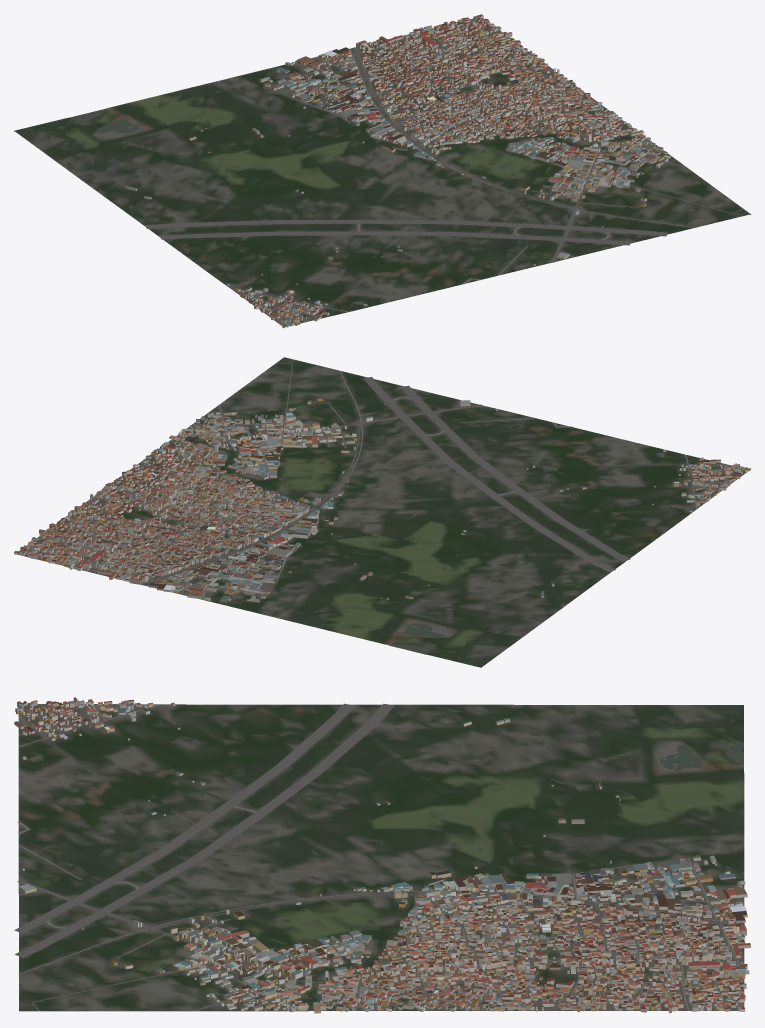
3 views of the same model, one above another, from view 1: azimuth 30°, elevation 25°; view 2: azimuth 150°, elevation 25°; view 3: azimuth 270°, elevation 25° (orthographic). The views are drawn at different scales.
Visible parts, largest first — view 1: ground, buildings, roads, water; view 2: ground, buildings, roads, water; view 3: ground, buildings, roads, water.
Boxes of the visible parts, <box> form: ground: <box>14,18,750,326</box>; buildings: <box>126,14,670,328</box>; roads: <box>145,18,743,322</box>; water: <box>72,109,140,133</box>; ground: <box>18,357,749,667</box>; buildings: <box>14,397,750,602</box>; roads: <box>24,362,741,599</box>; water: <box>394,623,443,652</box>; ground: <box>18,704,744,1011</box>; buildings: <box>14,697,750,1013</box>; roads: <box>14,703,744,1011</box>; water: <box>660,739,743,771</box>.
Bounding box in the file's own units: 1419 × 25.8 × 1424.
